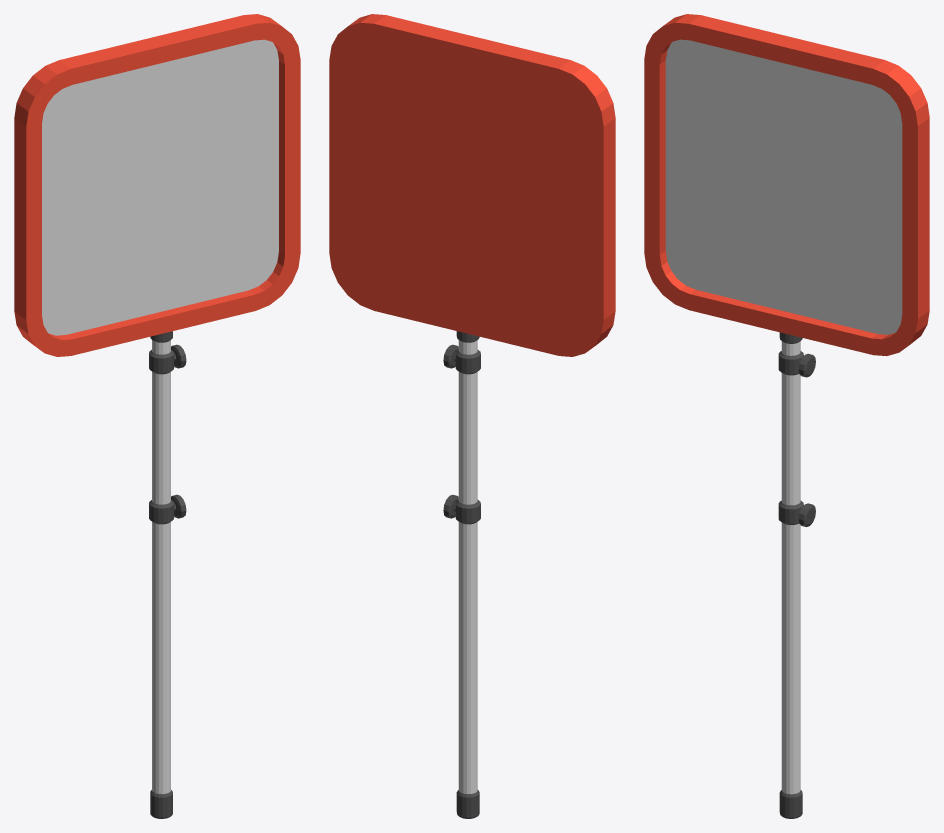
The model's file is LowLights.fbx.
3 renders of one model, left to right at view 1: azimuth 30°, elevation 25°; view 2: azimuth 150°, elevation 25°; view 3: azimuth 330°, elevation 25°, orthographic.
Parts seen in each view (by area): view 1: Cube, Cube.001, Cylinder, Cylinder.001, Cylinder.002; view 2: Cube.001, Cylinder, Cylinder.001, Cylinder.002; view 3: Cube, Cube.001, Cylinder, Cylinder.001, Cylinder.002.
Boxes of the visible parts, x1,y1,x2,y2 form: Cube: (42, 39, 278, 335); Cube.001: (14, 14, 300, 356); Cylinder: (152, 340, 170, 794); Cylinder.001: (149, 344, 186, 524); Cylinder.002: (150, 331, 172, 818); Cube.001: (329, 14, 615, 356); Cylinder: (458, 340, 477, 794); Cylinder.001: (443, 344, 480, 524); Cylinder.002: (456, 331, 479, 818); Cube: (665, 39, 902, 334); Cube.001: (644, 14, 929, 356); Cylinder: (781, 341, 800, 794); Cylinder.001: (778, 351, 815, 526); Cylinder.002: (779, 332, 802, 818).
Size of the model in its own units: 59.6 by 161 by 4.81.
